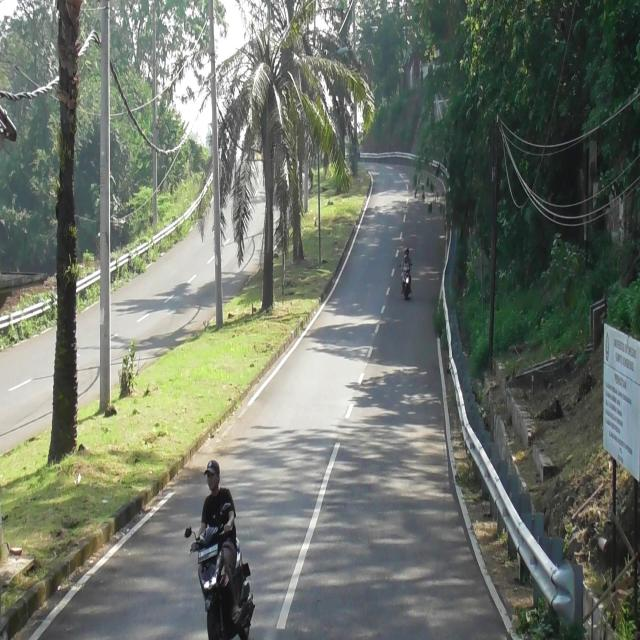motorcycle: (185, 500, 255, 640), (399, 266, 413, 299)
person: (192, 456, 243, 621), (400, 246, 412, 270), (403, 255, 409, 269)
rider_region: (187, 461, 256, 640), (399, 242, 416, 304)
